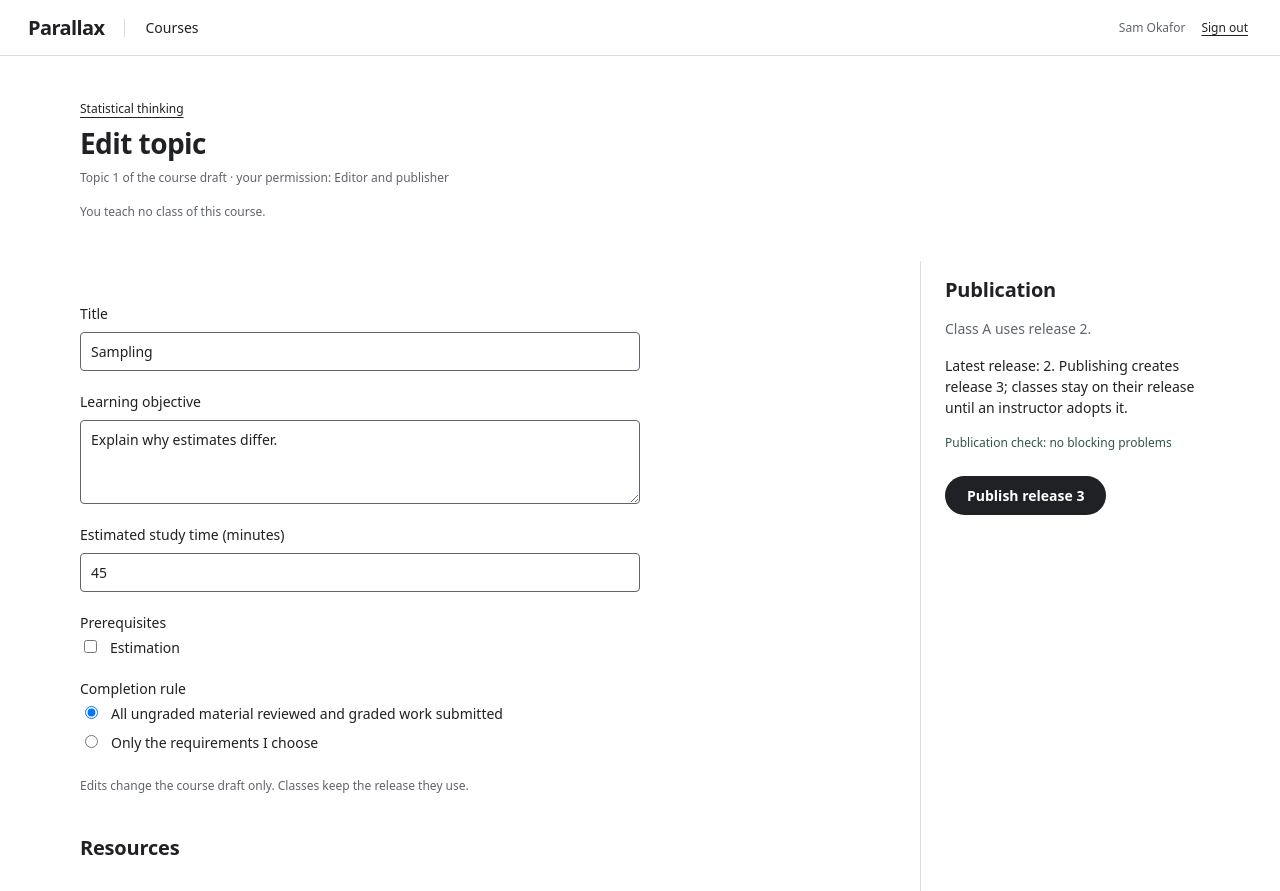
Test: topic editor › A26 refuses to save a topic without a title and says why
This screenshot has width=1280, height=891.
expect the heading "Edit topic" is shown: met, box [80,124,206,162]
Clear the field labelled "Title". click: (360, 352)
box: [80,332,640,371]
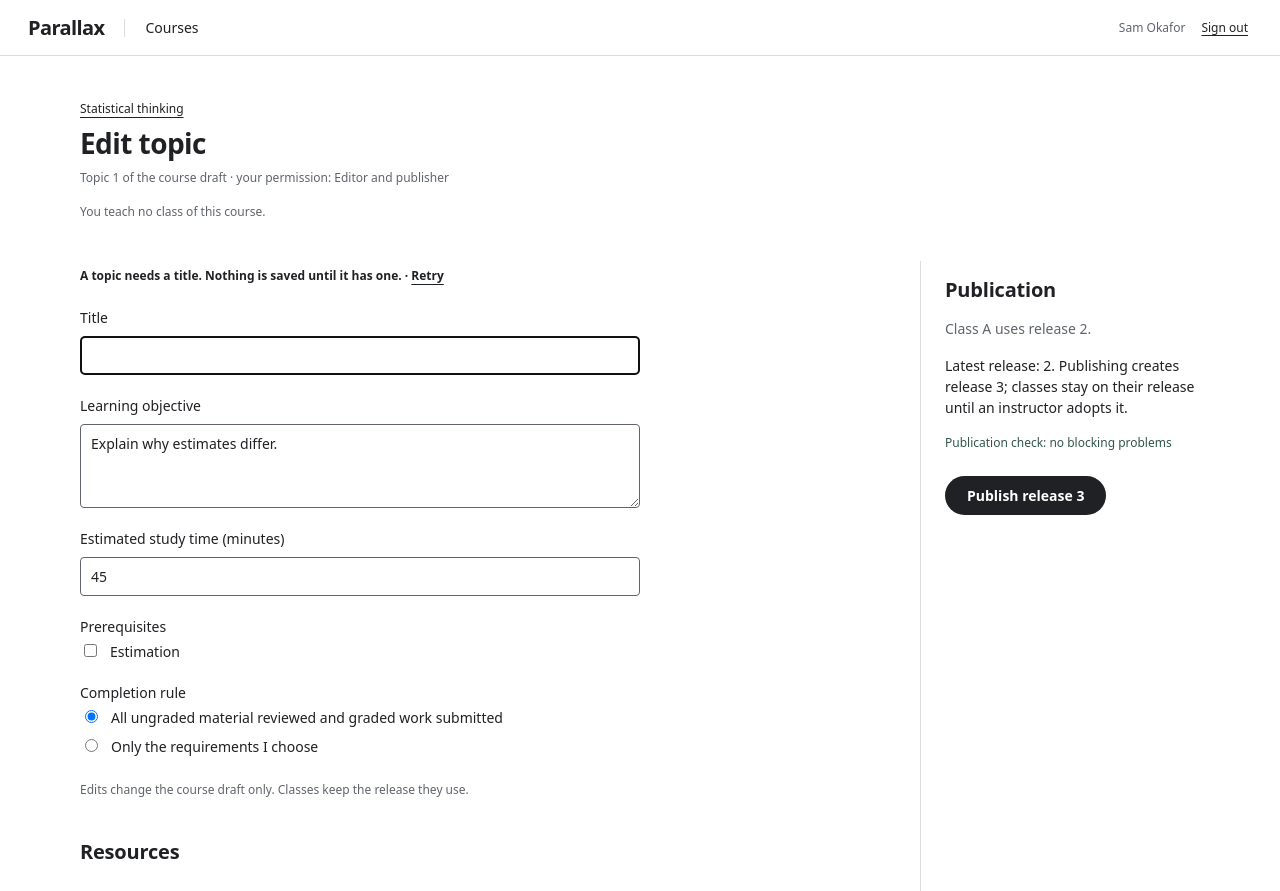
expect the message "A topic needs a title. Nothing is saved until it has one. · Retry" is shown: met, box [80,267,444,284]
